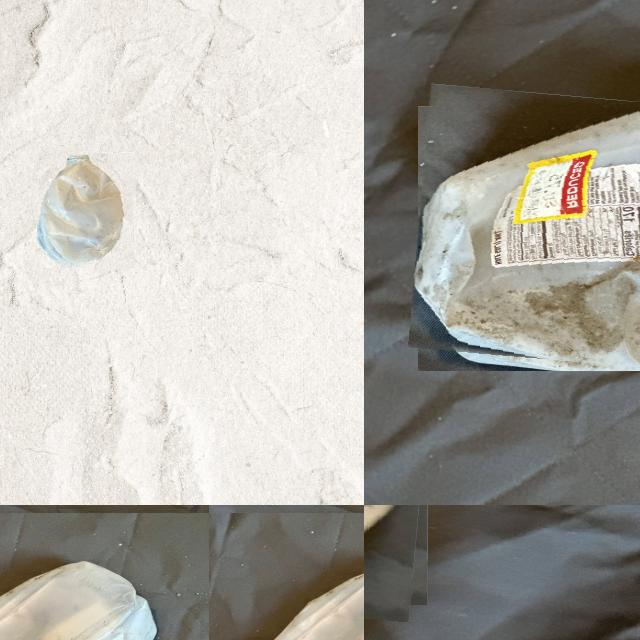milk-jug: (412, 94, 640, 382), (0, 558, 159, 640), (36, 150, 135, 270), (248, 561, 364, 640), (364, 505, 436, 613)
